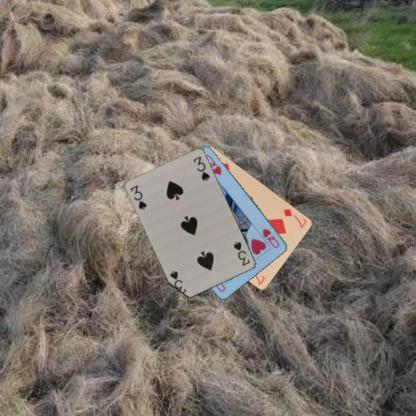3s: (128, 182, 148, 211), (231, 239, 251, 267)
7d: (281, 206, 308, 230)
Qh: (260, 226, 281, 250)
